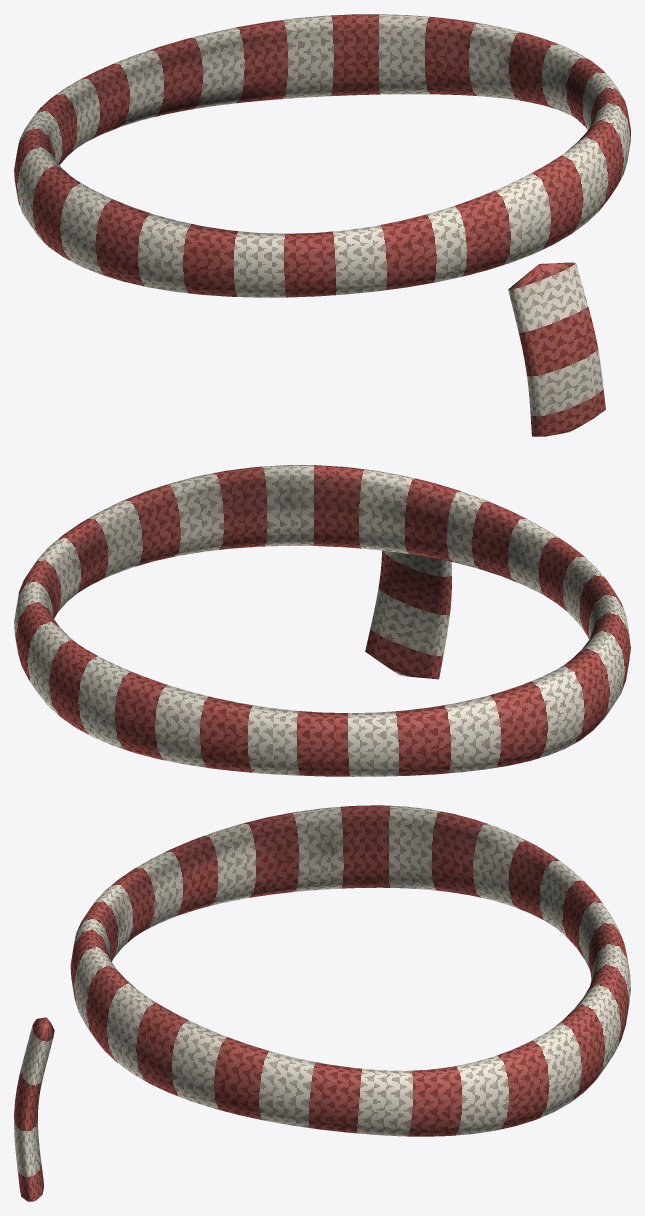
File: scarf.glb
3 views of the same model, one above another, from view 1: azimuth 30°, elevation 25°; view 2: azimuth 150°, elevation 25°; view 3: azimuth 270°, elevation 25° (orthographic).
Parts seen in each view (by area): view 1: scarf_wrap, scarf_end; view 2: scarf_wrap, scarf_end; view 3: scarf_wrap, scarf_end.
Boxes of the visible parts, x1,y1,x2,y2 form: scarf_wrap: (14, 14, 630, 297); scarf_end: (508, 262, 605, 436); scarf_wrap: (14, 465, 630, 776); scarf_end: (365, 550, 451, 679); scarf_wrap: (70, 805, 630, 1136); scarf_end: (14, 1017, 54, 1201).
Size of the model in its own units: 24.8 by 10.03 by 23.62.
1 material, 1 textured.
